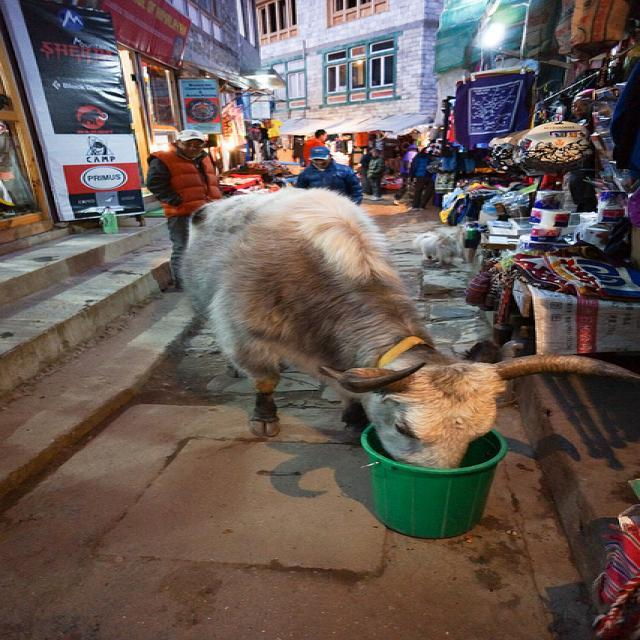cow: (172, 187, 637, 470)
